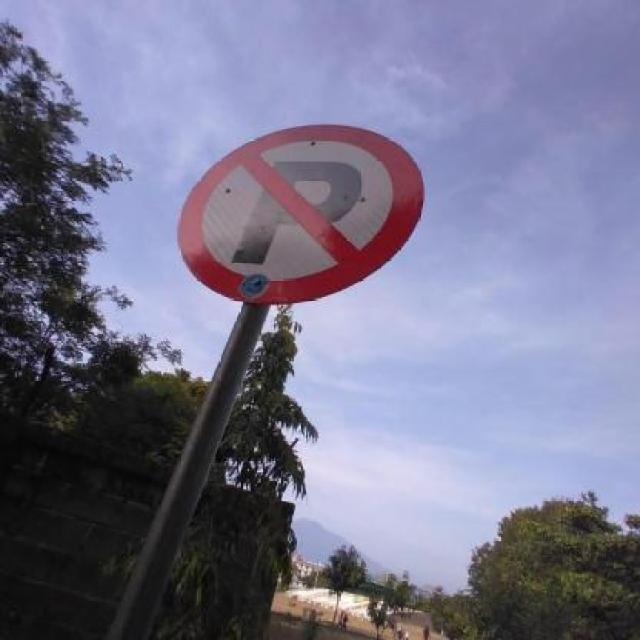no parking: (180, 124, 424, 305)
